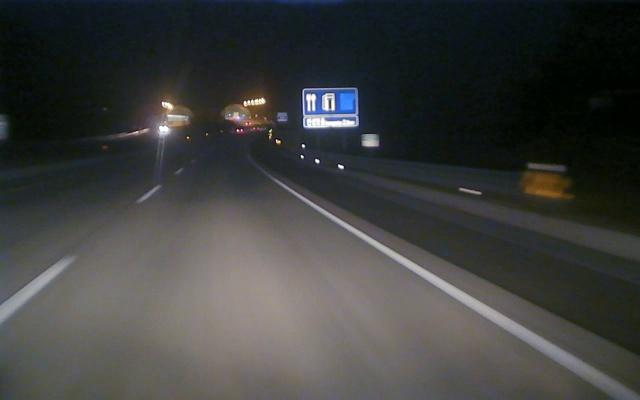lane: (277, 183, 640, 400), (0, 185, 161, 326)
